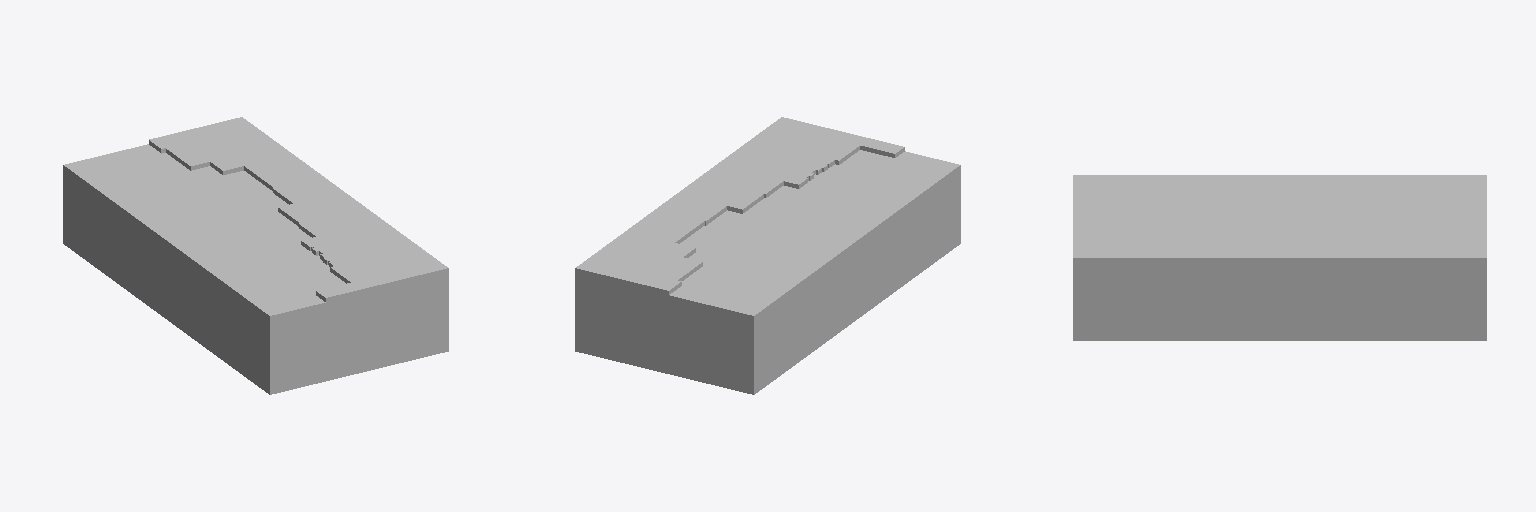
The model's file is Sunkeny City -  Voxel Desert-12-water 2.obj.
The picture shows the model from 3 angles: view 1: azimuth 30°, elevation 25°; view 2: azimuth 150°, elevation 25°; view 3: azimuth 270°, elevation 25°; orthographic projection.
Visible parts, largest first — view 1: water 2; view 2: water 2; view 3: water 2.
Part boxes in pixels (x1,y1,x2,y2): water 2: (63, 117, 448, 394); water 2: (575, 117, 960, 394); water 2: (1073, 175, 1486, 340).
Bounding box in the file's own units: 12.8 × 5.7 × 25.6.